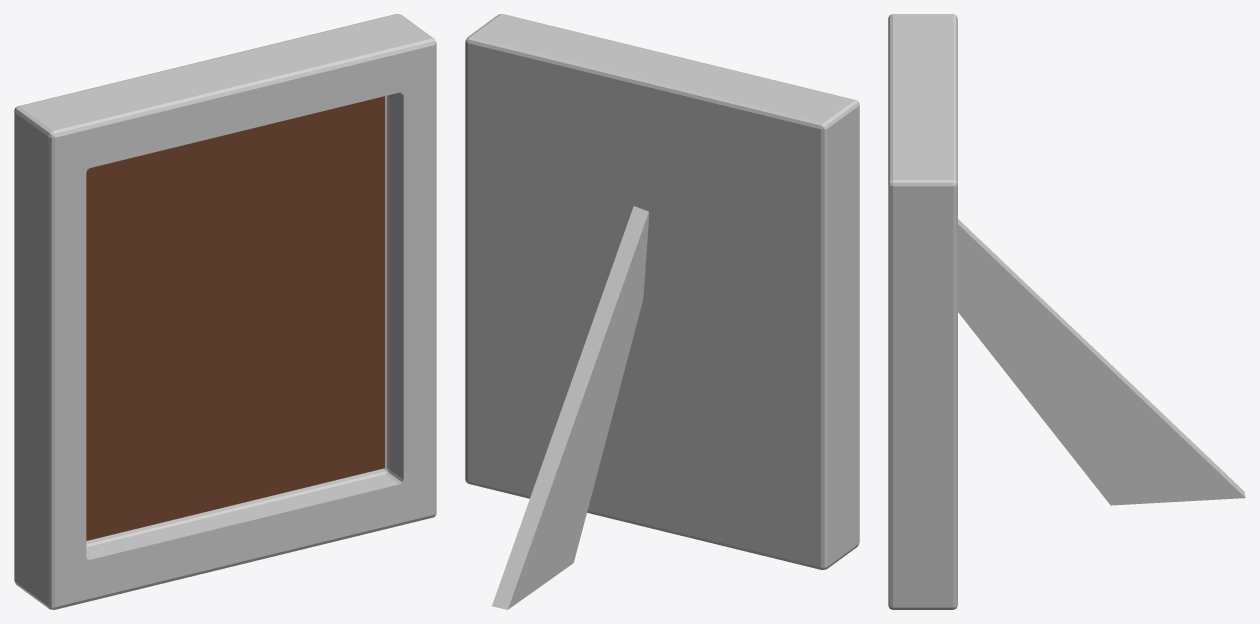
The model's file is FrameA.fbx.
3 renders of one model, left to right at view 1: azimuth 30°, elevation 25°; view 2: azimuth 150°, elevation 25°; view 3: azimuth 270°, elevation 25°, orthographic. The views are drawn at different scales.
Visible parts, largest first — view 1: Plane002; view 2: Plane002; view 3: Plane002.
Boxes of the visible parts, left/top/right/bottom form: Plane002: left=14, top=14, right=436, bottom=609; Plane002: left=465, top=14, right=859, bottom=609; Plane002: left=888, top=14, right=1245, bottom=609.
Size of the model in its own units: 2.19 by 2.58 by 1.95.
